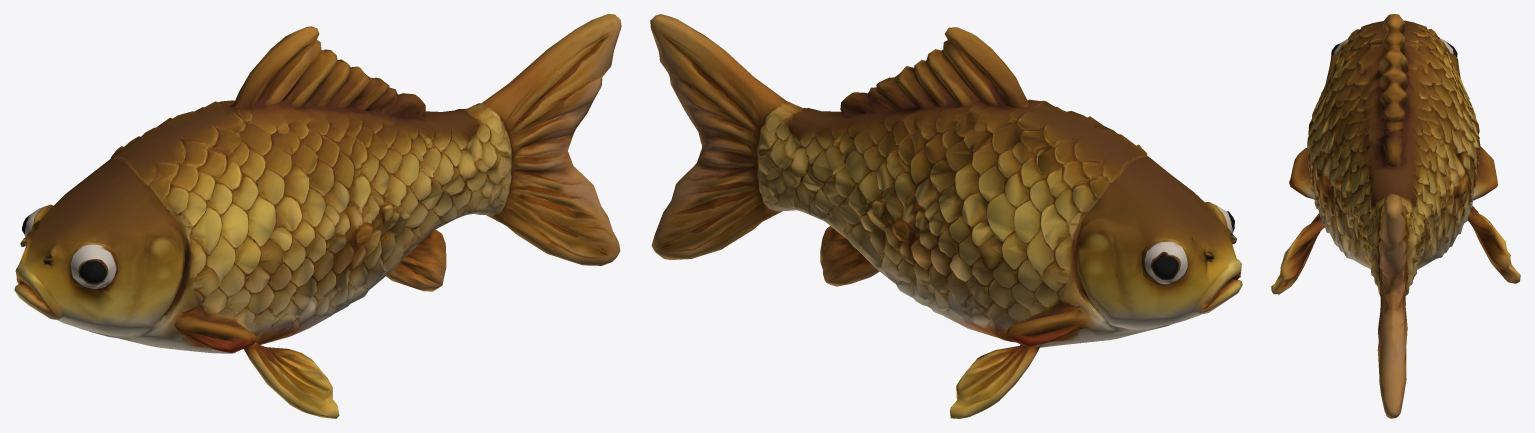
Rendered from fish-karas.glb.
3 views of the same model, side by side, from view 1: azimuth 30°, elevation 25°; view 2: azimuth 150°, elevation 25°; view 3: azimuth 270°, elevation 25° (orthographic). The views are drawn at different scales.
Visible parts, largest first — view 1: tripo_node_ea16ac23-afa4-498c-a9bb-aa39e5b7ee46; view 2: tripo_node_ea16ac23-afa4-498c-a9bb-aa39e5b7ee46; view 3: tripo_node_ea16ac23-afa4-498c-a9bb-aa39e5b7ee46.
Part boxes in pixels (left/top/right/bottom): tripo_node_ea16ac23-afa4-498c-a9bb-aa39e5b7ee46: left=14, top=14, right=621, bottom=418; tripo_node_ea16ac23-afa4-498c-a9bb-aa39e5b7ee46: left=650, top=14, right=1242, bottom=418; tripo_node_ea16ac23-afa4-498c-a9bb-aa39e5b7ee46: left=1271, top=14, right=1520, bottom=418.
Bounding box in the file's own units: 0.9992 × 0.5291 × 0.4062.
1 material, 1 textured.
